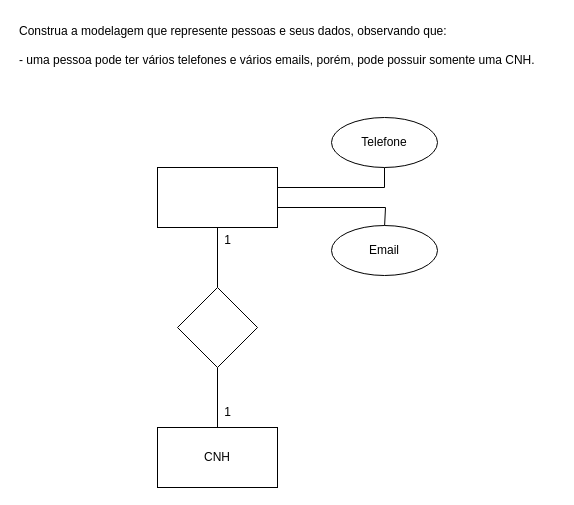
The diagram is 574 pixels wide and 505 high, and some of its shapes have lost their labels. Each missing label, with the box of its shape:
Pessoa: (156, 166, 278, 228)
possui: (176, 286, 258, 368)
